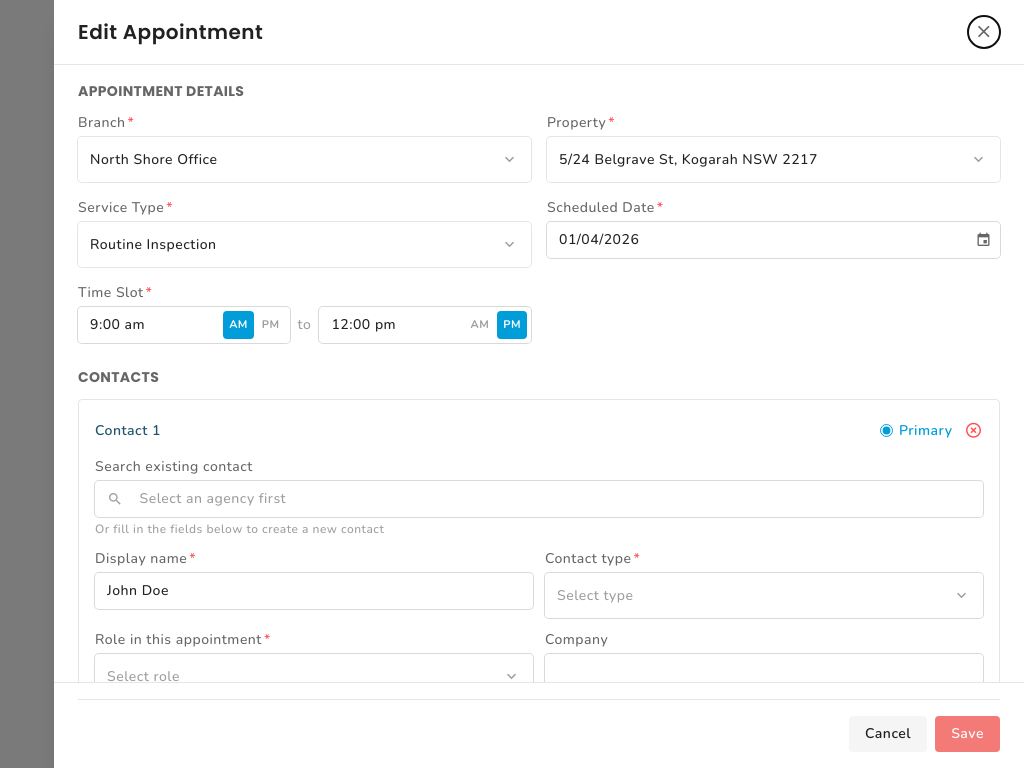
it: AppointmentFormDrawer › lets the operator remove the only contact and shows an empty state
Click the button named "Remove contact 1" at (974, 430), box [964,416,983,445]
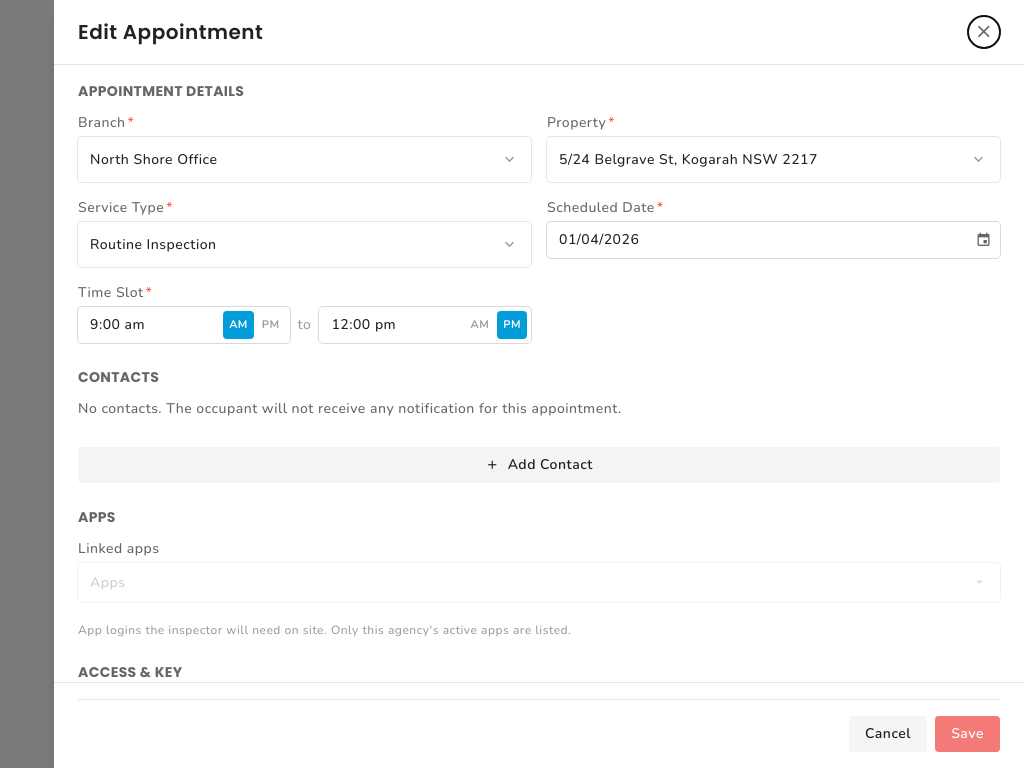
Now the text "No contacts." is shown, box [78,399,622,418]
Now the button "Add Contact" is shown, box [78,447,1000,483]
